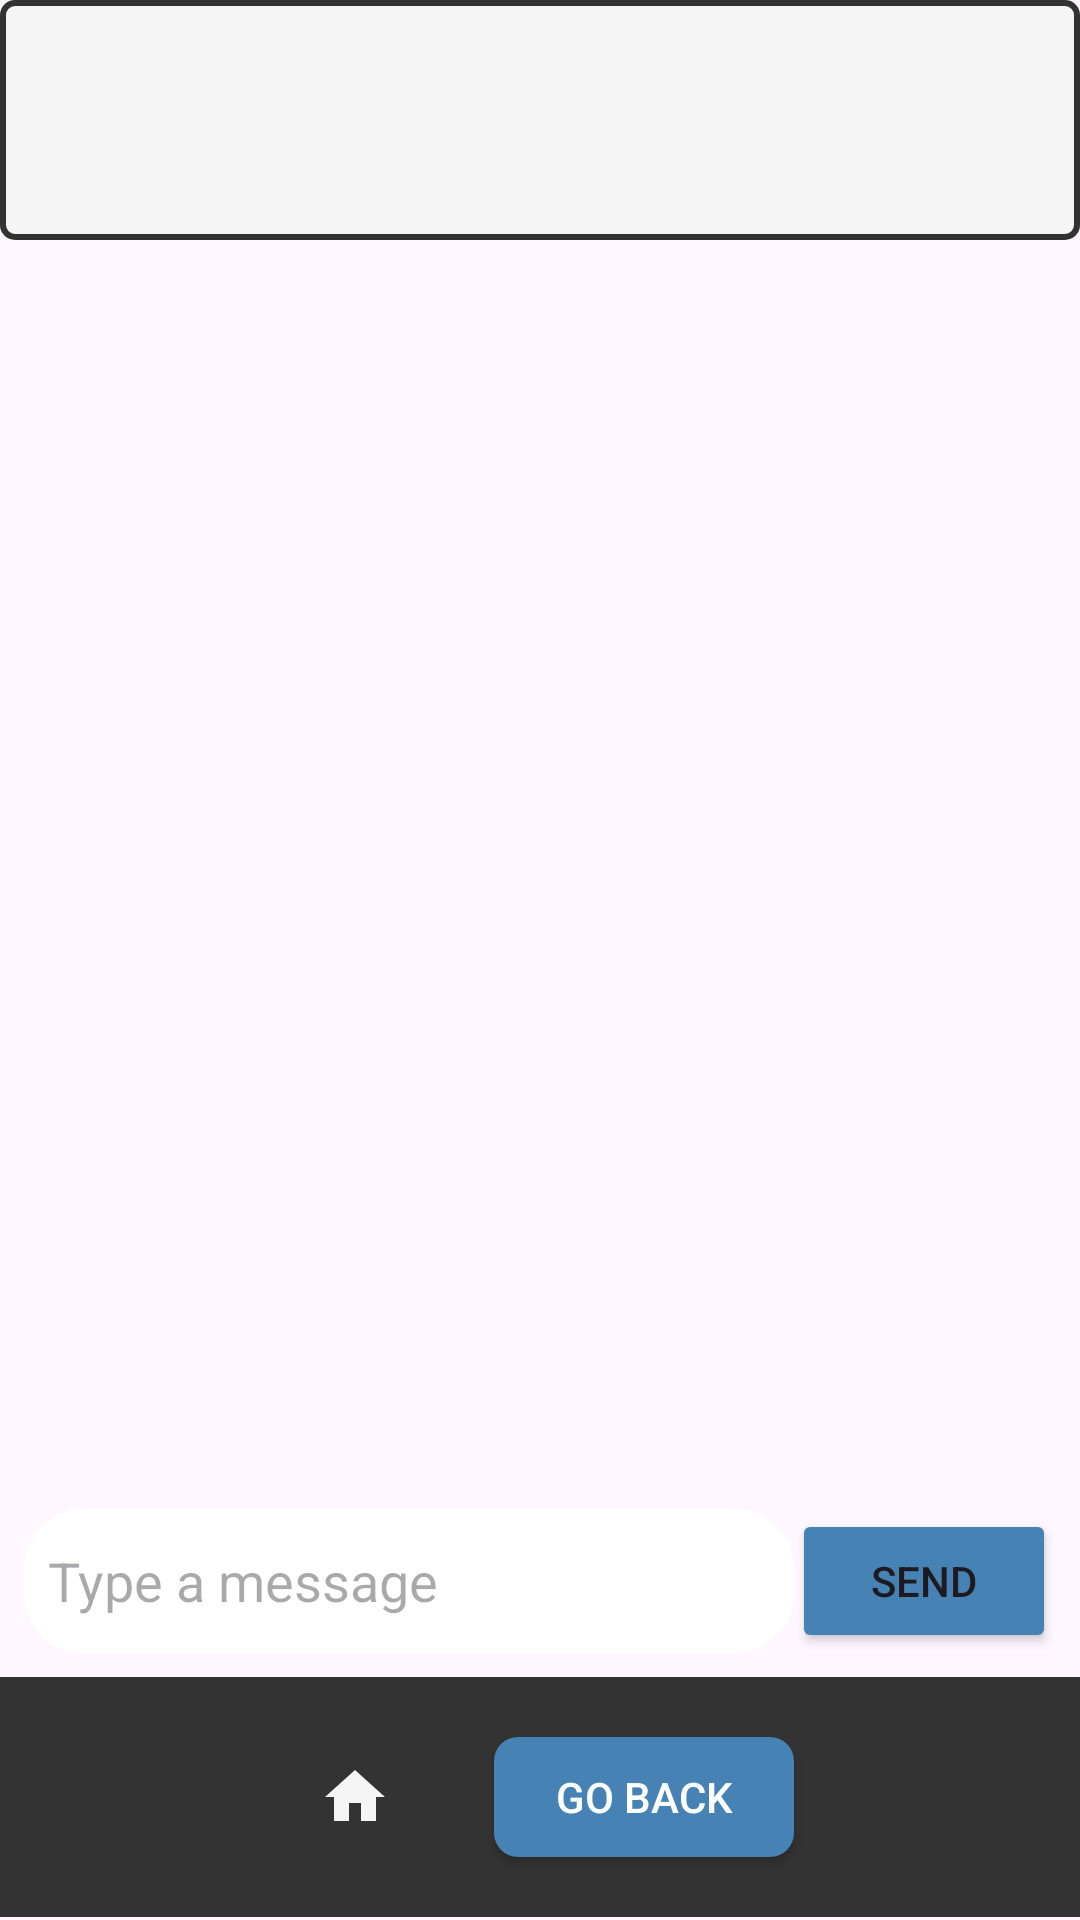

Icons on this 1080×1920 Android screen, each with its box as [left=x1, top=y1, right=x2, bottom=y2]:
home: [left=325, top=1770, right=385, bottom=1821]
